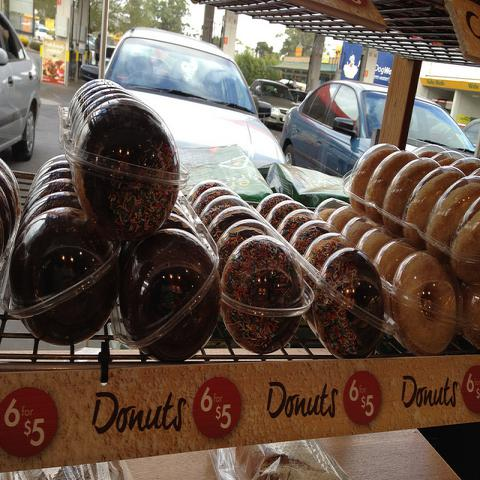car: (102, 24, 287, 177), (281, 78, 477, 176), (1, 5, 38, 158), (250, 77, 300, 126), (462, 118, 479, 148), (279, 78, 306, 91), (106, 46, 115, 67)
